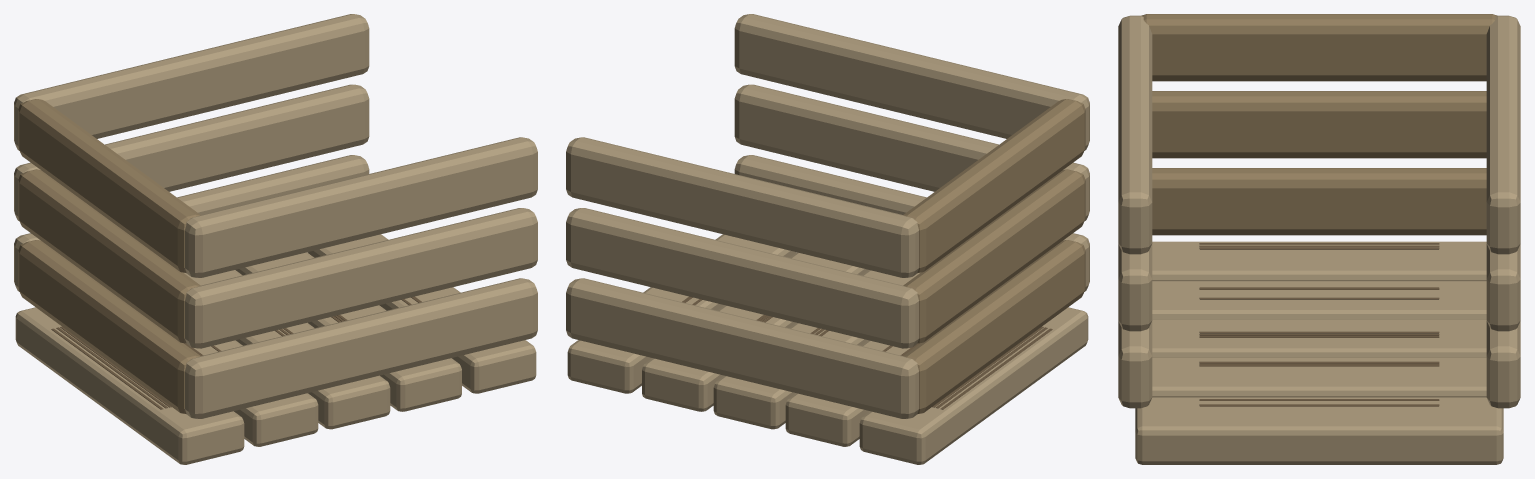
Rendered from Broken_Cargo_Crate_Barren.glb.
3 renders of one model, left to right at view 1: azimuth 30°, elevation 25°; view 2: azimuth 150°, elevation 25°; view 3: azimuth 270°, elevation 25°, orthographic. The views are drawn at different scales.
Visible parts, largest first — view 1: Structure; view 2: Structure; view 3: Structure.
Boxes of the visible parts, <box> form: Structure: <box>14,14,537,464</box>; Structure: <box>566,14,1089,464</box>; Structure: <box>1118,14,1520,464</box>.
Bounding box in the file's own units: 1.59 × 1.04 × 1.42.
